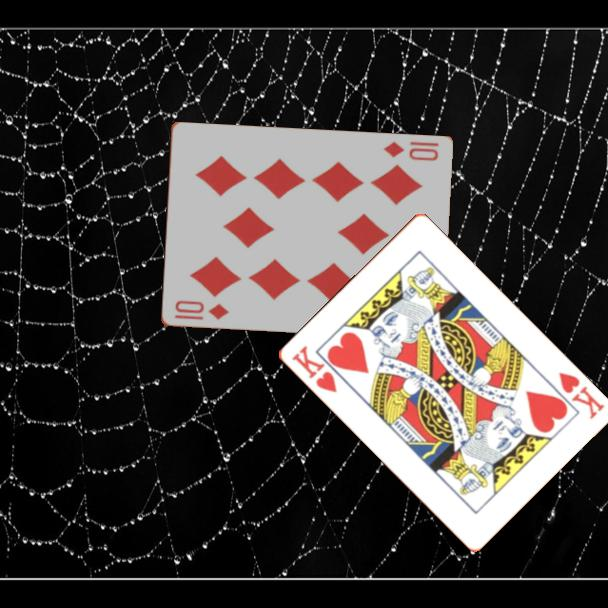d10: (380, 138, 441, 164), (171, 297, 231, 323)
h13: (288, 342, 340, 396), (555, 369, 607, 422)
